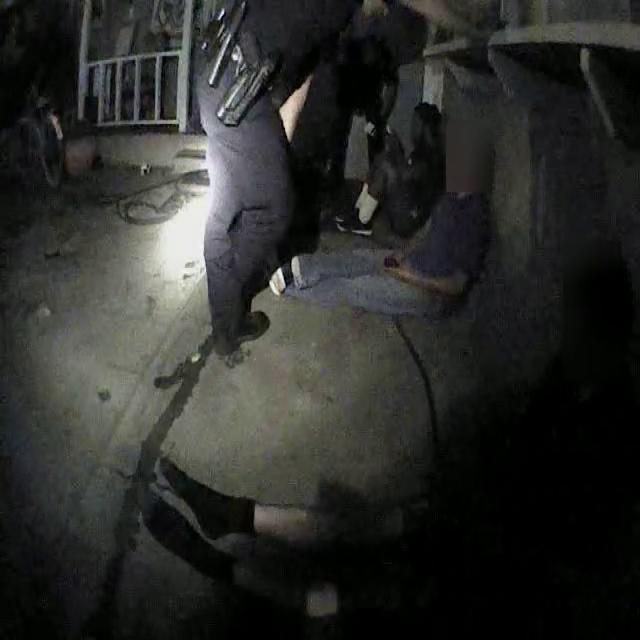gun: (207, 18, 287, 139)
